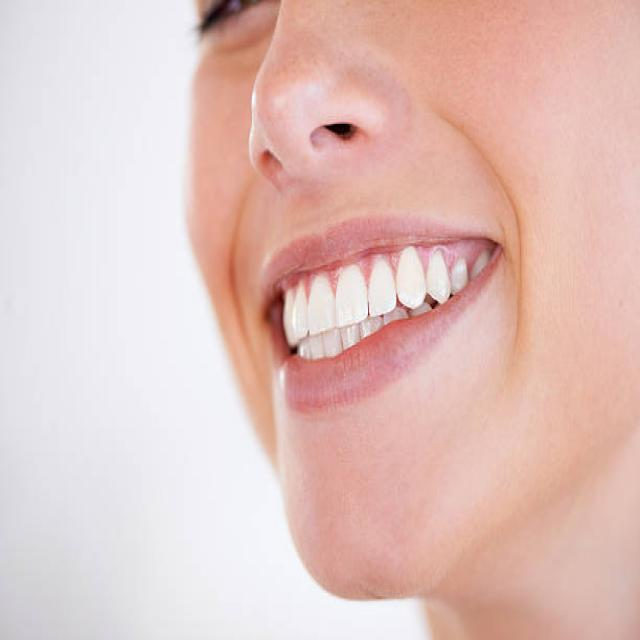tooth: (336, 259, 371, 321), (363, 264, 397, 318), (398, 248, 424, 310), (308, 278, 336, 331), (428, 254, 450, 300), (294, 287, 310, 334), (281, 301, 296, 344), (342, 328, 362, 351), (452, 254, 466, 284), (325, 332, 340, 353), (312, 338, 324, 362), (362, 323, 378, 337), (473, 250, 484, 268), (298, 342, 312, 356)
